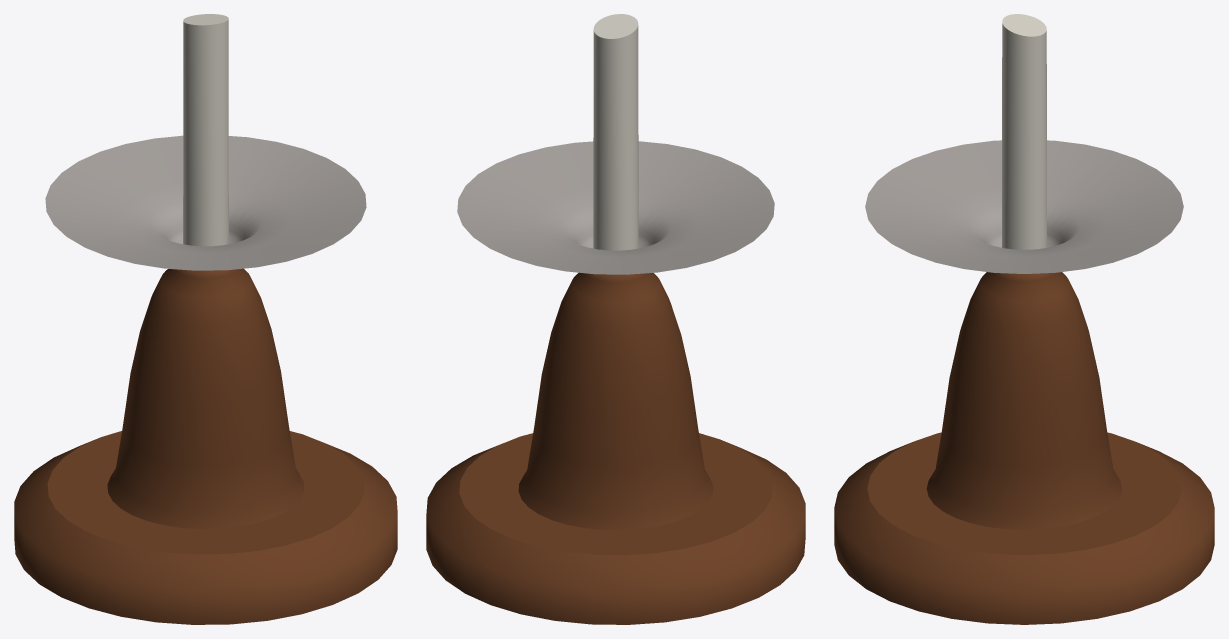
The model's file is vela 1 (1).fbx.
3 renders of one model, left to right at view 1: azimuth 30°, elevation 25°; view 2: azimuth 150°, elevation 25°; view 3: azimuth 270°, elevation 25°, orthographic.
Visible parts, largest first — view 1: Cylinder; view 2: Cylinder; view 3: Cylinder.
Part boxes in pixels (left/top/right/bottom): Cylinder: left=14, top=14, right=397, bottom=624; Cylinder: left=426, top=14, right=805, bottom=624; Cylinder: left=834, top=14, right=1214, bottom=624.
Bounding box in the file's own units: 200 × 303 × 200.
